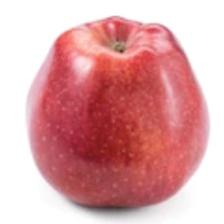apple: (32, 9, 178, 171)
